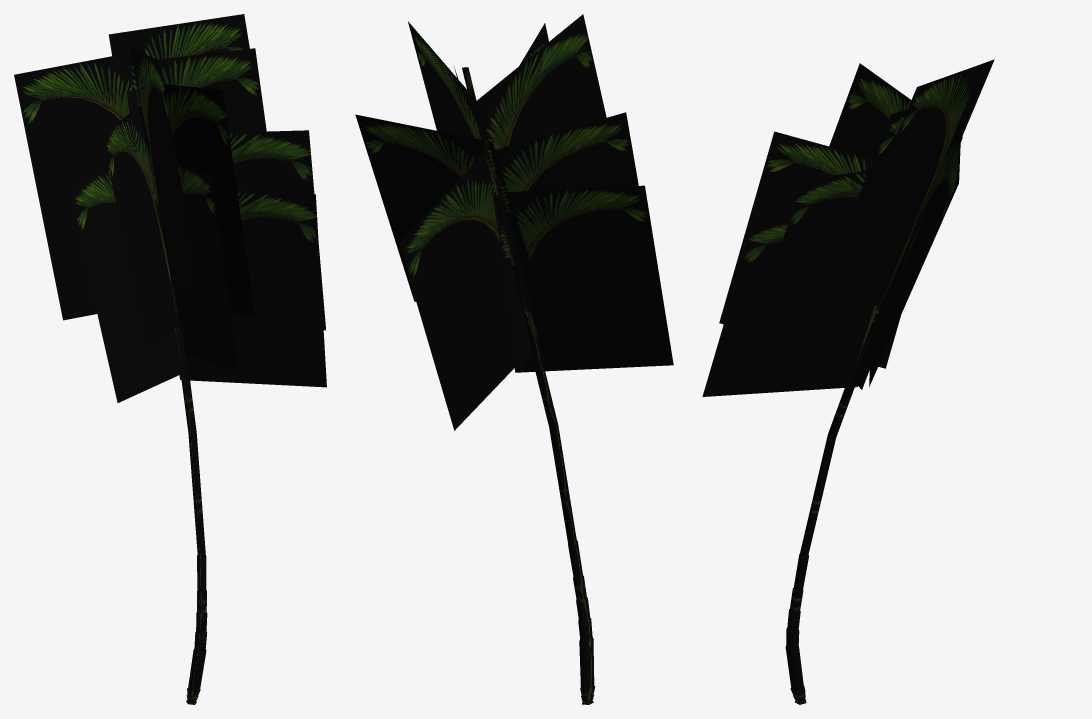
The model's file is palm.glb.
The picture shows the model from 3 angles, left to right: view 1: azimuth 30°, elevation 25°; view 2: azimuth 150°, elevation 25°; view 3: azimuth 270°, elevation 25°; orthographic projection. The views are drawn at different scales.
Parts seen in each view (by area): view 1: 2_Leaves, 1_Trunk; view 2: 2_Leaves, 1_Trunk; view 3: 2_Leaves, 1_Trunk.
Part boxes in pixels (<box>): 2_Leaves: <box>14,14,326,402</box>; 1_Trunk: <box>170,279,207,704</box>; 2_Leaves: <box>355,14,673,430</box>; 1_Trunk: <box>521,298,595,704</box>; 2_Leaves: <box>702,59,994,431</box>; 1_Trunk: <box>785,230,912,704</box>.
Size of the model in its own units: 105 by 266 by 133.
Materials: 1 (1 with a texture image).
